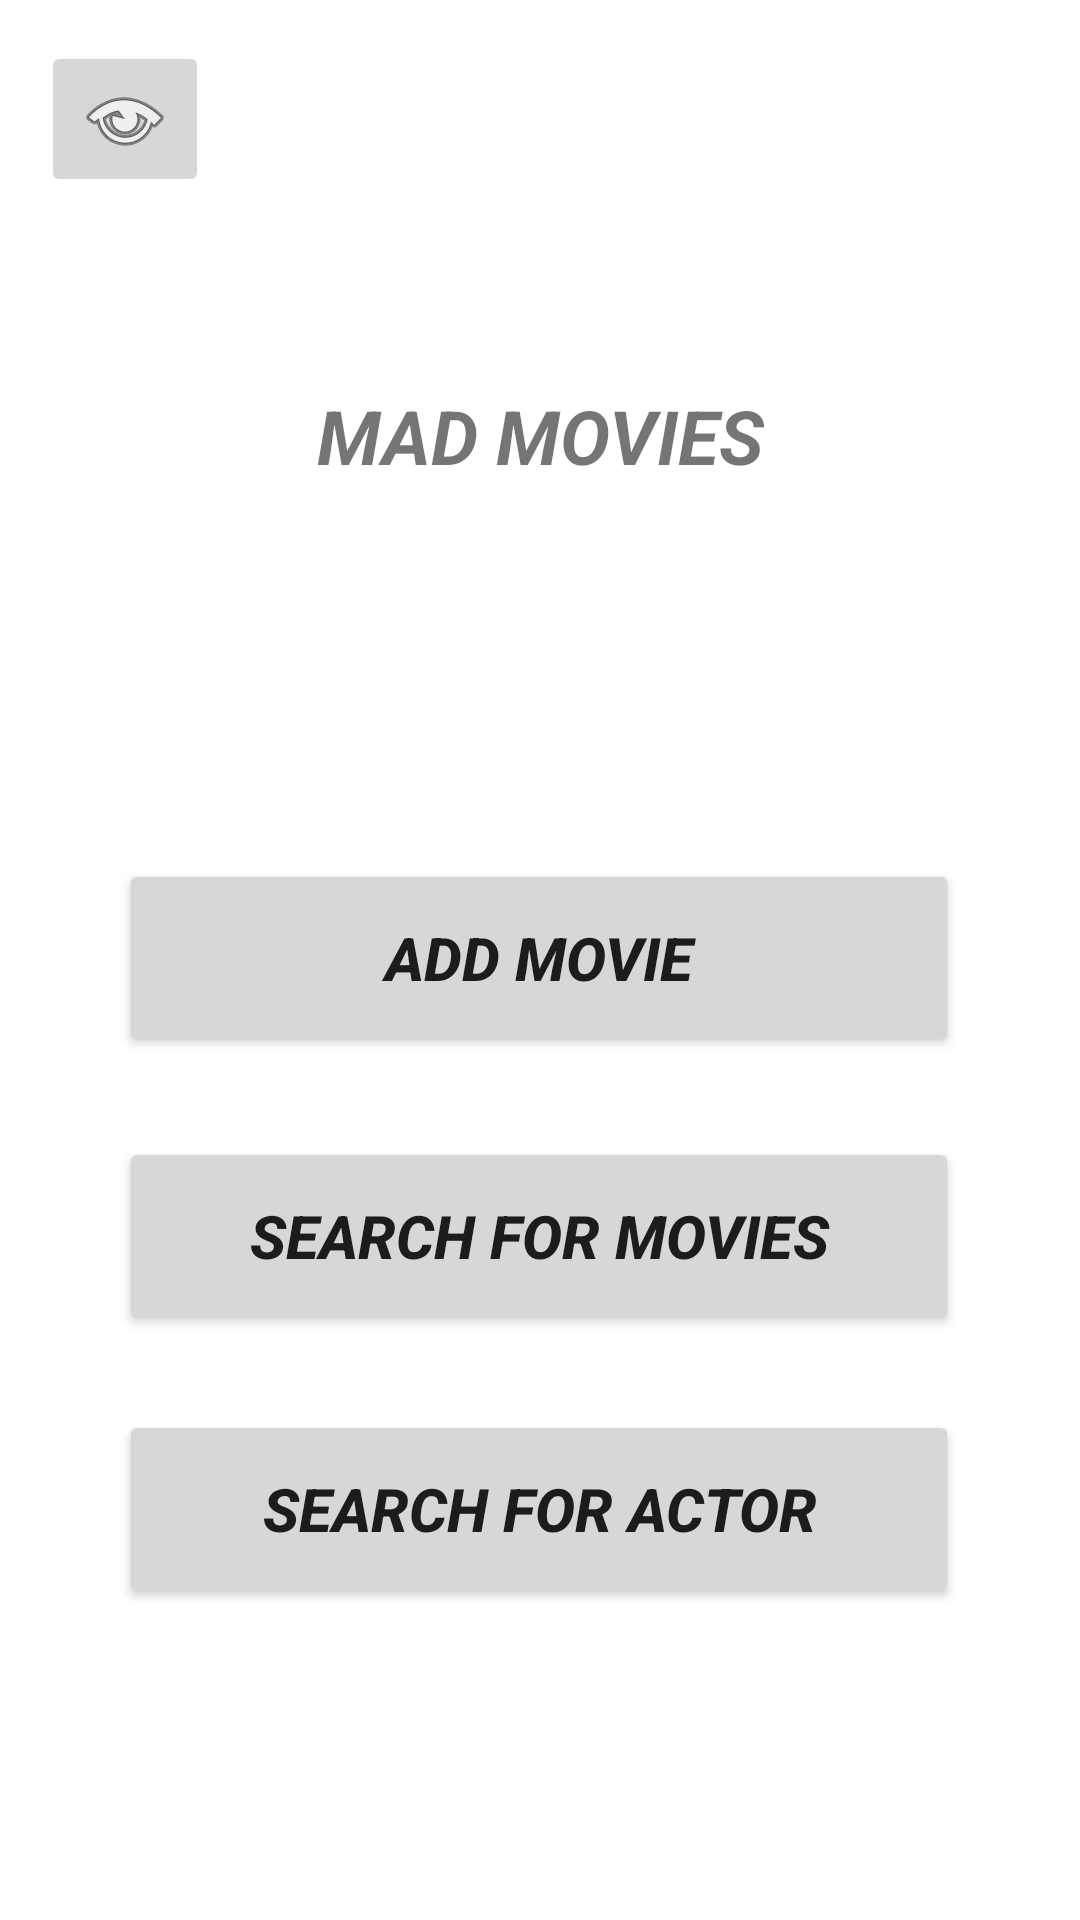

Screen size 1080*1920. Icon name, then its box in pixels as (x1, y1, x2, y2):
view: (53, 59, 197, 179)
